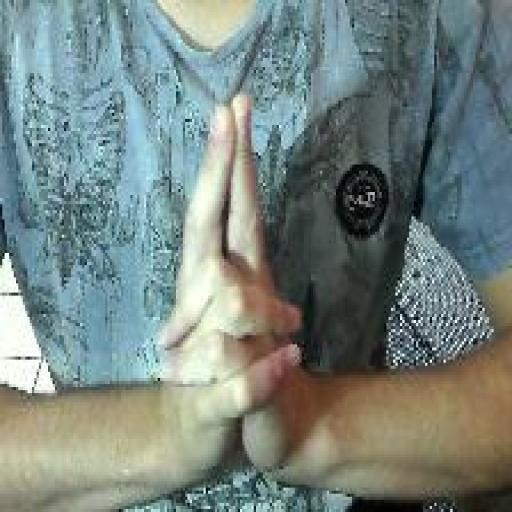Tora -tiger-: (154, 85, 303, 500)
